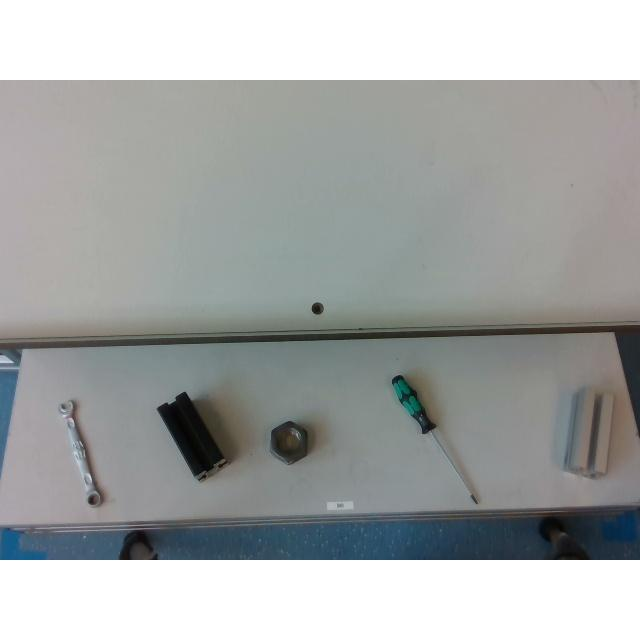M30: (270, 421, 306, 464)
S40_40_B: (156, 392, 228, 480)
S40_40_G: (564, 387, 612, 477)
Screwdriver: (390, 374, 478, 504)
Wrench: (58, 400, 102, 506)
